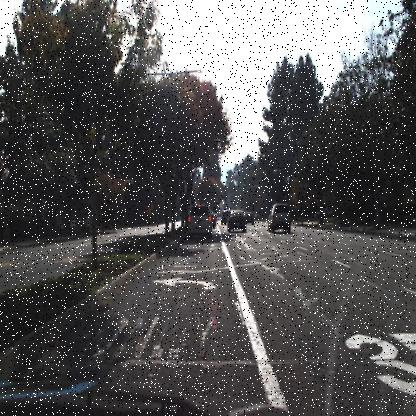car: (268, 198, 296, 235), (187, 200, 212, 236), (60, 219, 93, 238), (226, 208, 247, 236), (314, 202, 335, 220), (242, 211, 257, 227), (243, 206, 255, 224), (221, 206, 230, 226), (210, 212, 220, 229)
